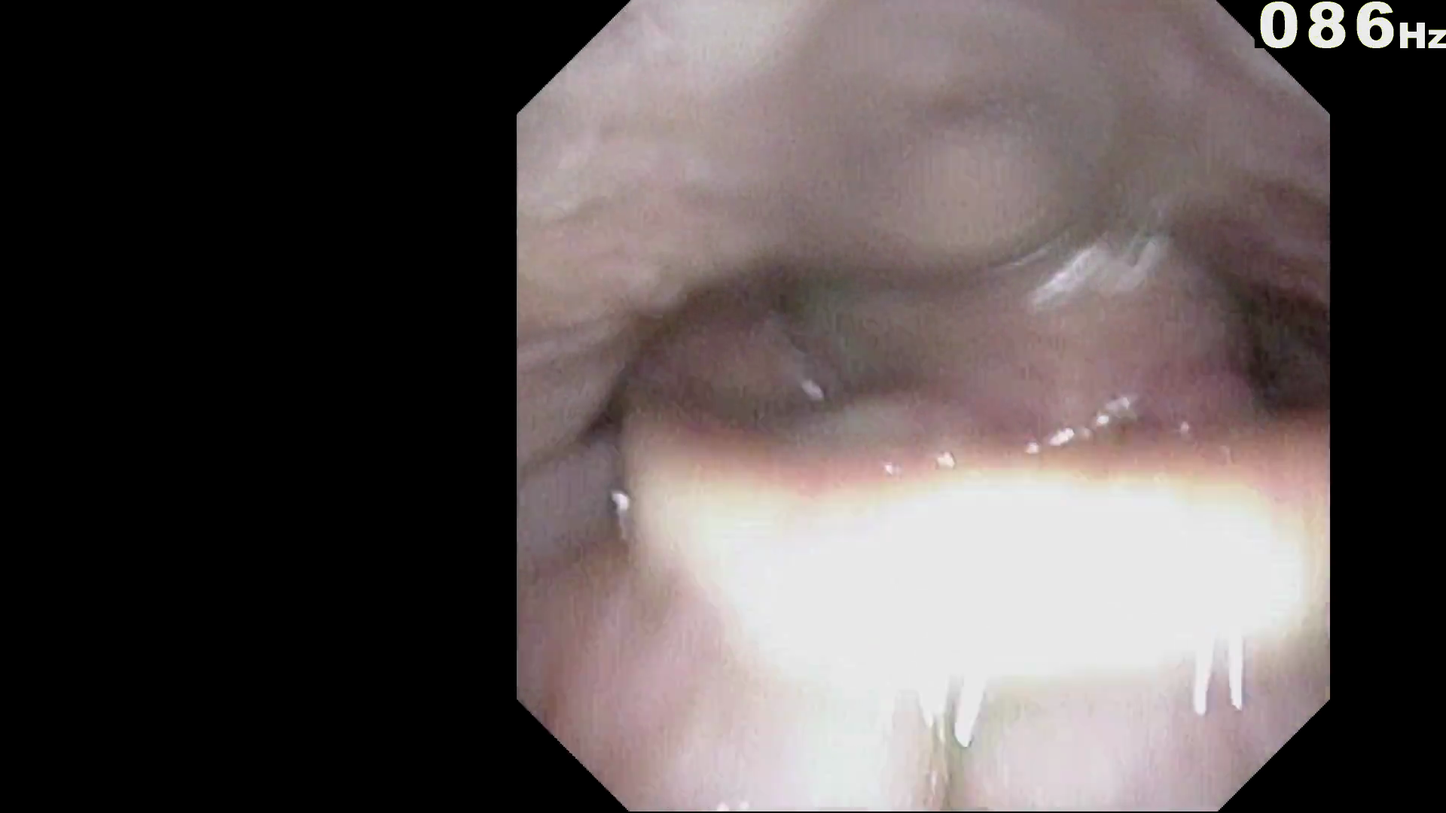epiglottis: (651, 491, 1266, 716)
trachea: (936, 494, 1082, 608)
